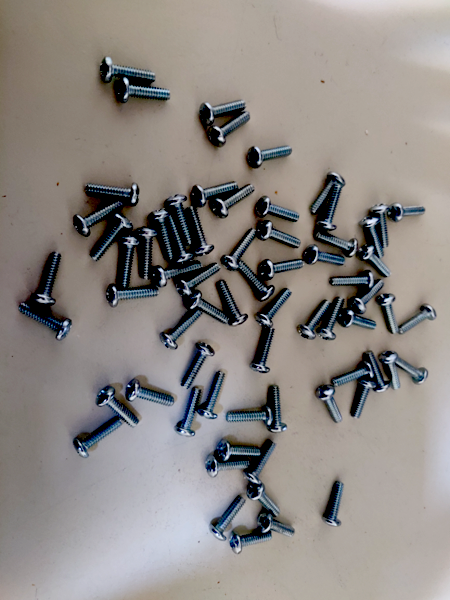shortscrew: (90, 213, 134, 262), (18, 303, 72, 341), (73, 418, 123, 458), (73, 200, 125, 237), (96, 387, 140, 430), (209, 496, 247, 542), (176, 262, 222, 299), (161, 309, 202, 350), (180, 342, 214, 391), (32, 251, 62, 306), (185, 290, 232, 325), (99, 56, 157, 84), (254, 288, 293, 329), (211, 183, 255, 219), (221, 229, 257, 272), (217, 280, 249, 328), (244, 440, 277, 486), (239, 261, 276, 302), (310, 172, 346, 214), (208, 112, 251, 147), (196, 370, 226, 420), (166, 195, 195, 246), (117, 77, 171, 104), (296, 300, 332, 340), (174, 387, 202, 438), (149, 209, 177, 260), (167, 214, 195, 265), (187, 206, 215, 256), (126, 379, 174, 408), (153, 261, 203, 288), (349, 278, 385, 315), (135, 227, 160, 280), (398, 303, 438, 336), (257, 220, 302, 249), (200, 99, 247, 126), (317, 296, 345, 341), (118, 236, 142, 288), (86, 183, 140, 206), (315, 230, 359, 258), (192, 182, 239, 208), (251, 327, 277, 374), (107, 285, 160, 308), (350, 376, 377, 420), (247, 145, 293, 170), (317, 185, 342, 231), (256, 196, 300, 222), (257, 510, 296, 539), (248, 483, 282, 516), (359, 244, 392, 278), (315, 384, 343, 424), (364, 351, 390, 394), (359, 217, 386, 258), (322, 481, 346, 527), (229, 530, 273, 555), (333, 362, 374, 388), (226, 405, 274, 426), (369, 204, 391, 249), (395, 356, 429, 385), (268, 385, 288, 434), (205, 456, 249, 478), (218, 439, 261, 461), (329, 270, 376, 290), (260, 259, 304, 280), (378, 294, 399, 336), (304, 245, 346, 266), (337, 309, 377, 331), (380, 350, 401, 391), (389, 203, 426, 223)
